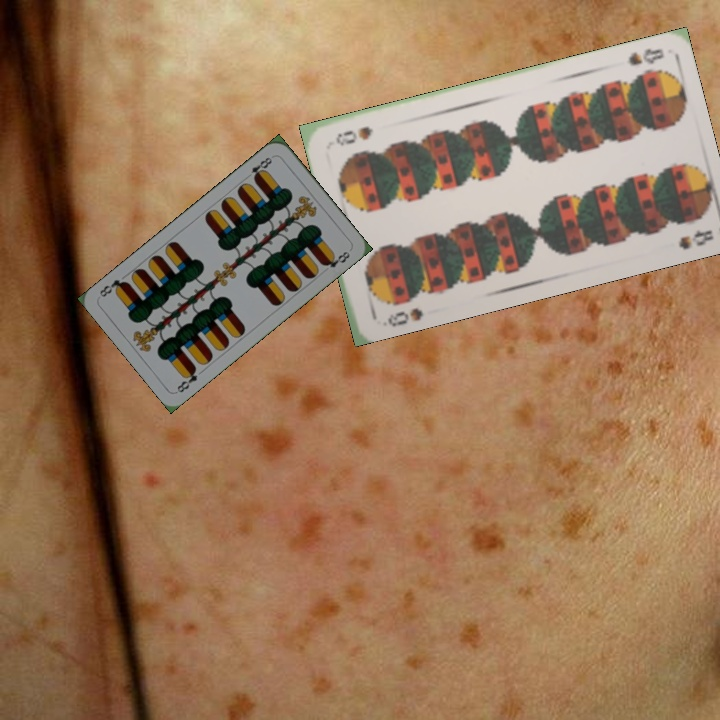E8: (242, 152, 276, 183), (173, 363, 200, 395)
S8: (623, 44, 667, 68), (383, 304, 425, 329)
